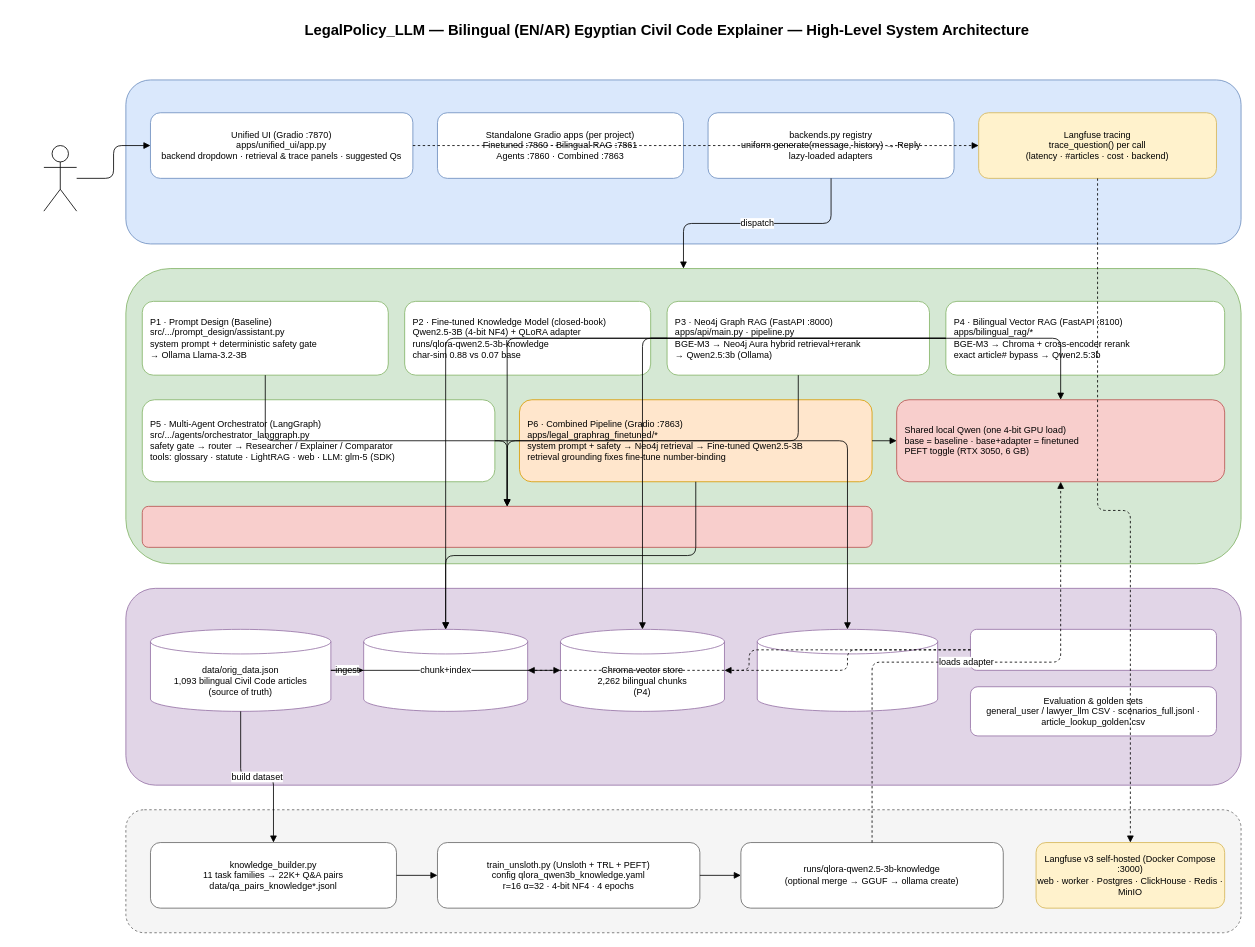
The diagram is 1255 pixels wide and 947 high, and some of its shapes have lost their labels. Each missing label, with the box of its shape:
BAAI/bge-m3 embeddings multilingual AR/EN · 1024-dim CPU (shared by P3 & P4): (970, 629, 1216, 670)
BACKEND / APPROACH LAYER (6 comparable approaches over one corpus): (125, 268, 1241, 564)
DATA & RETRIEVAL STORES: (125, 588, 1241, 785)
LightRAG graph (P5) ~2,164 articles · ~1,285 entities ~1,474 relations: (756, 629, 938, 711)
Neo4j Aura 1,093 Article nodes + keywords/relations + vector index: (363, 629, 528, 711)
OFFLINE TRAINING PIPELINE (produces P2 adapter): (125, 809, 1241, 933)
Ollama runtime (:11434) — Llama-3.2-3B · Qwen3:4b · Qwen2.5:3b-instruct: (141, 506, 872, 547)
User (Layperson / Lawyer): (43, 145, 77, 211)
USER INTERFACE LAYER: (125, 79, 1241, 244)
